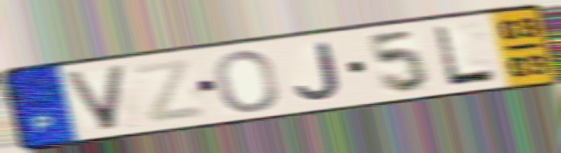5: (364, 26, 430, 95)
J: (293, 40, 344, 102)
L: (430, 23, 502, 88)
O: (212, 48, 282, 115)
V: (59, 62, 131, 133)
Z: (128, 55, 210, 126)
